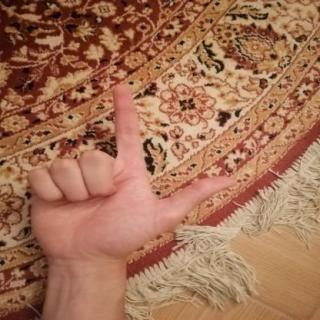LAAM: (12, 75, 247, 277)
